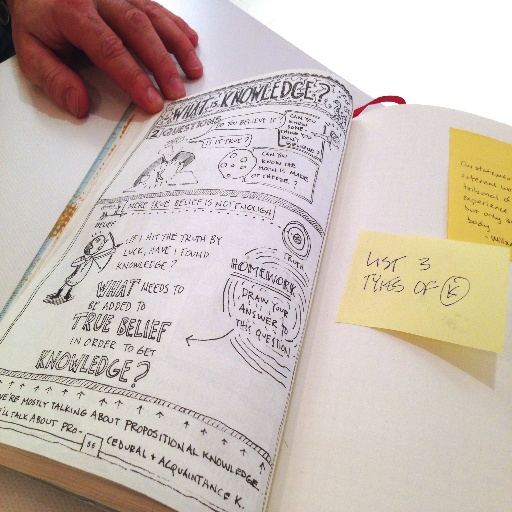hand: (6, 0, 203, 119)
